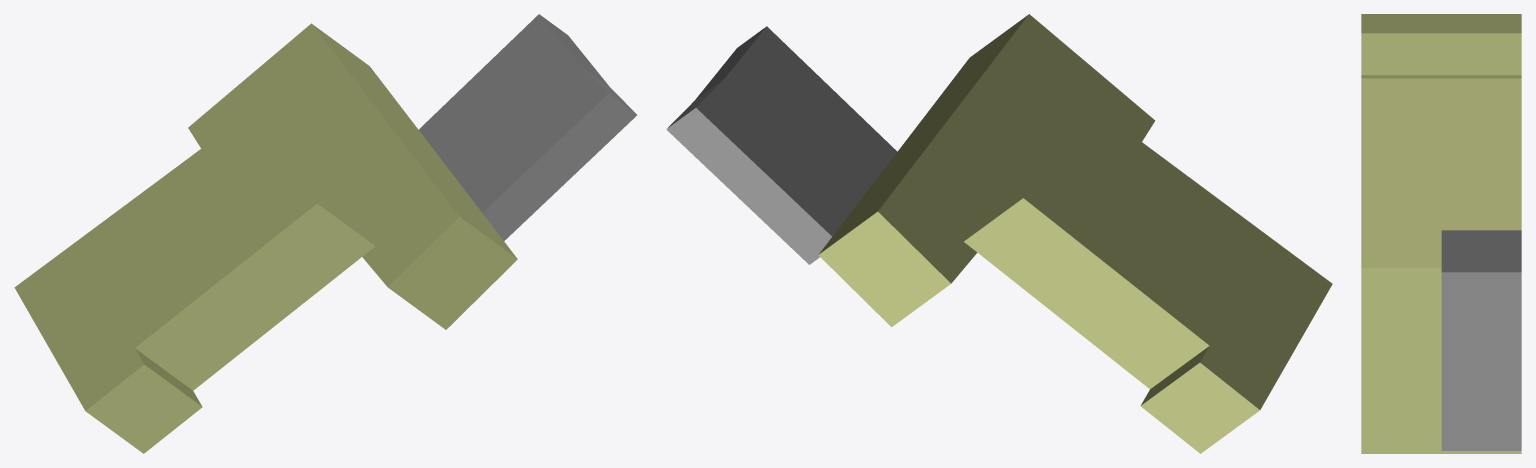
3 renders of one model, left to right at view 1: azimuth 30°, elevation 25°; view 2: azimuth 150°, elevation 25°; view 3: azimuth 270°, elevation 25°, orthographic. The views are drawn at different scales.
Parts seen in each view (by area): view 1: 0_1_0_0_1_0_0_1_3; view 2: 0_1_0_0_1_0_0_1_3; view 3: 0_1_0_0_1_0_0_1_3.
Boxes of the visible parts, x1,y1,x2,y2 form: 0_1_0_0_1_0_0_1_3: (14,14,636,453); 0_1_0_0_1_0_0_1_3: (666,14,1332,453); 0_1_0_0_1_0_0_1_3: (1361,14,1521,453).
Size of the model in its own units: 35.25 by 18.87 by 6.
